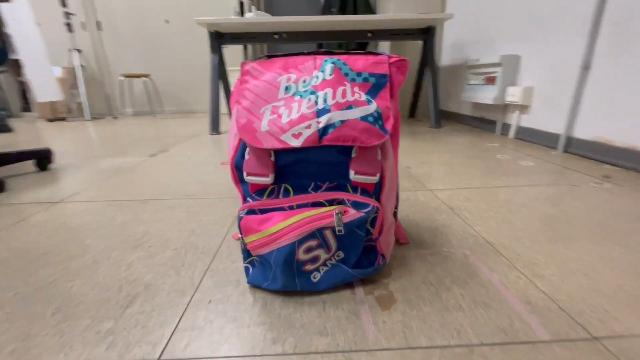Backpack: (215, 43, 425, 303)
Lamp: (1, 0, 72, 124)
Stool: (112, 69, 172, 121)
